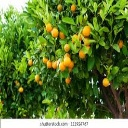orange: (81, 24, 91, 37), (63, 56, 71, 68), (102, 76, 109, 88), (51, 28, 59, 38), (34, 73, 40, 82), (27, 59, 33, 67), (19, 87, 24, 93)
